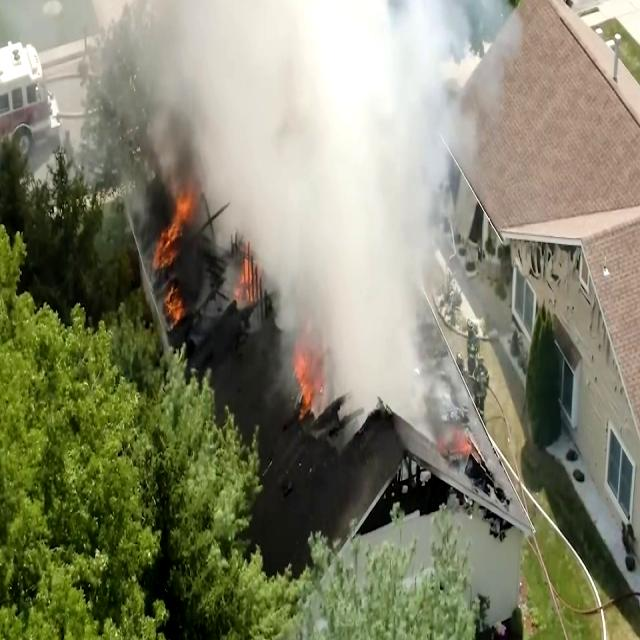smoke: (216, 0, 357, 187)
